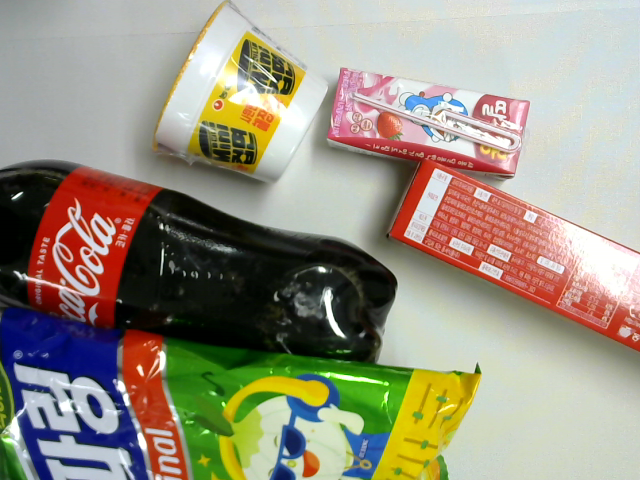Coca_Cola_1.5L: (1, 155, 401, 372)
Hejangmini: (152, 1, 323, 185)
Oninon_Ring: (1, 301, 484, 476)
Ritz_Cracker: (377, 155, 640, 352)
Strawberry_E_Mong: (325, 59, 531, 183)
